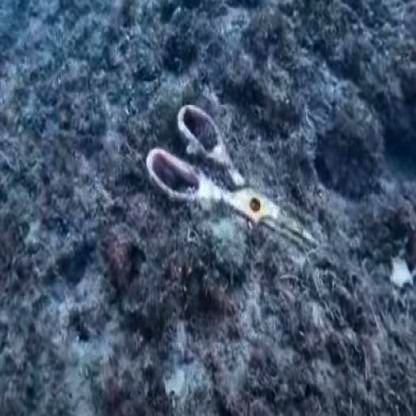misc: (159, 115, 340, 288)
